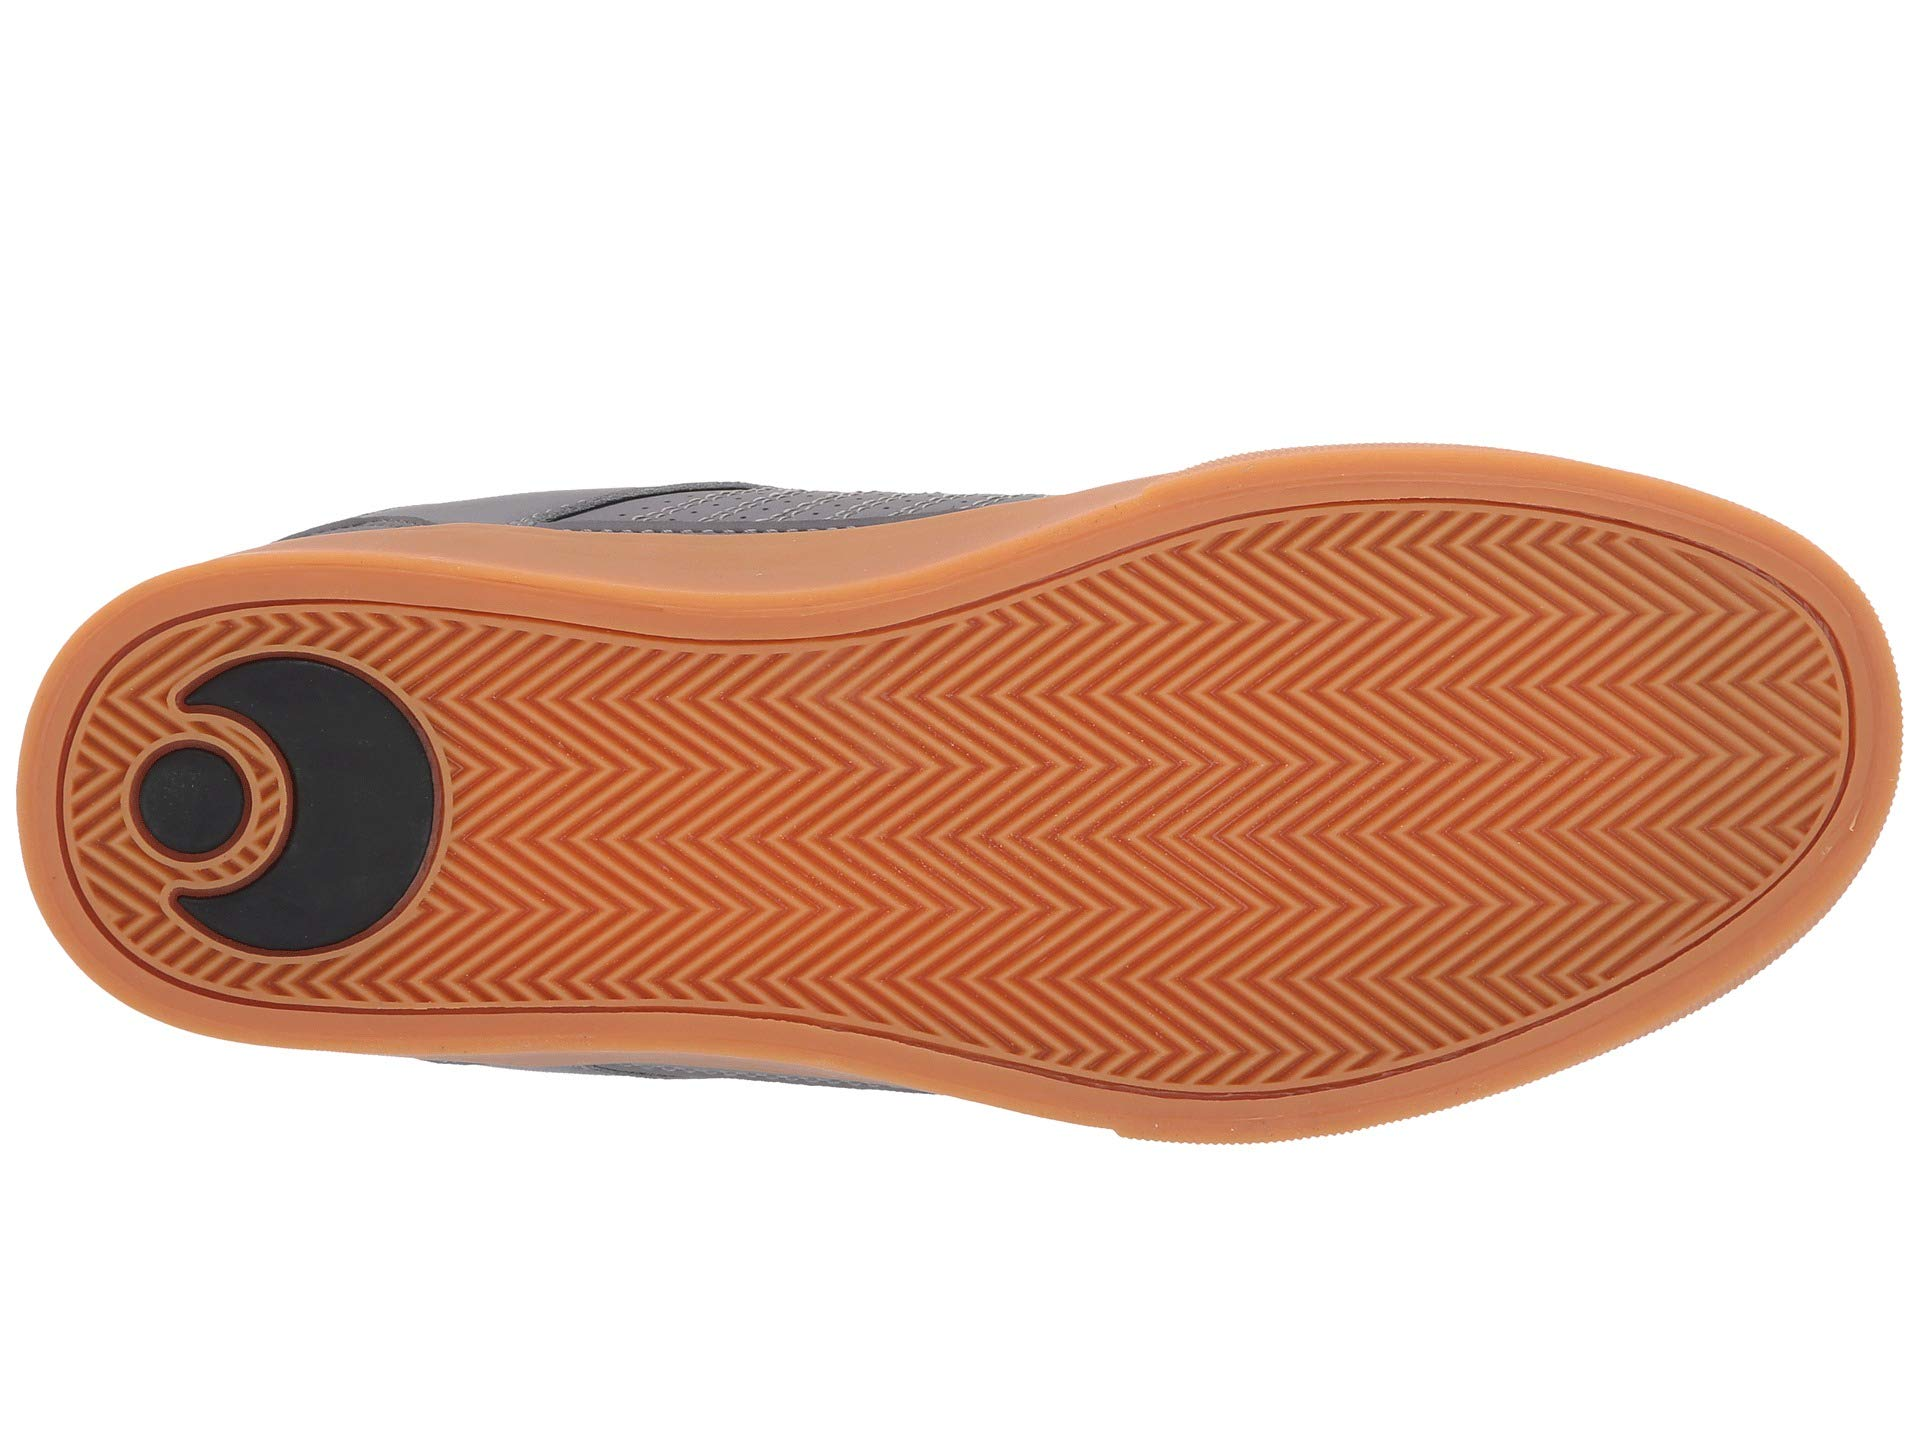chevron: (106, 599, 475, 1029), (1160, 587, 1556, 982), (519, 659, 819, 983)
circle: (106, 599, 475, 1029)
quad: (106, 599, 475, 1029)
triangle: (106, 599, 475, 1029)
